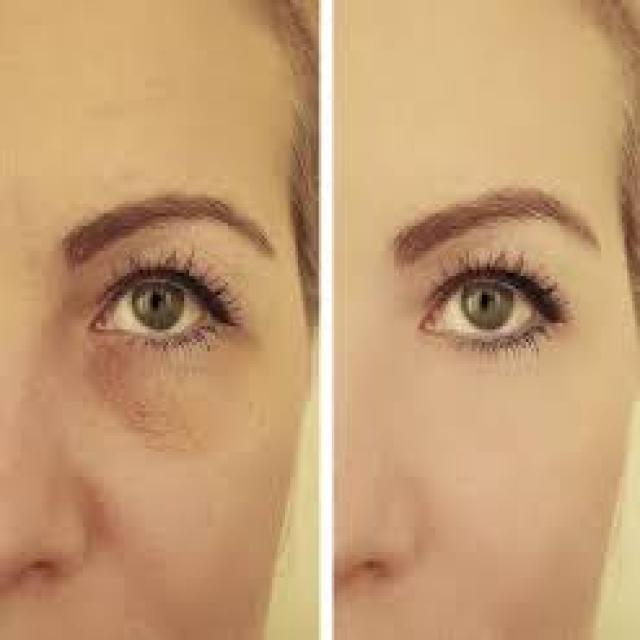Puffy Eyes - v3 Dark Circle: (91, 333, 259, 447)
